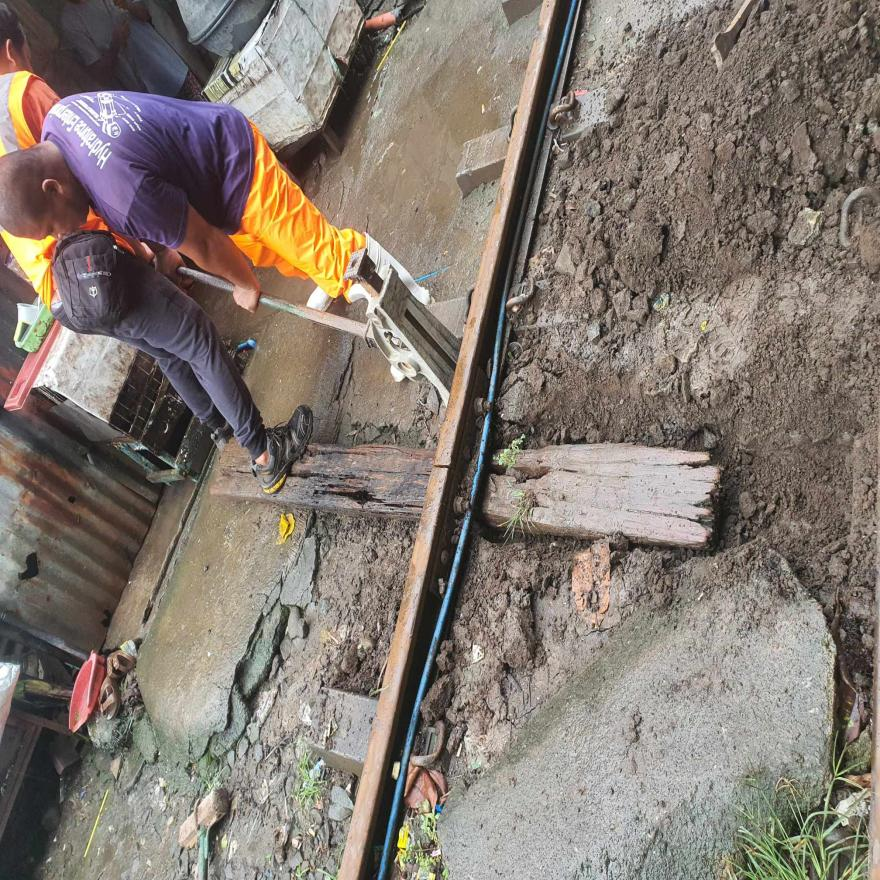railway-gap: (414, 432, 468, 502)
